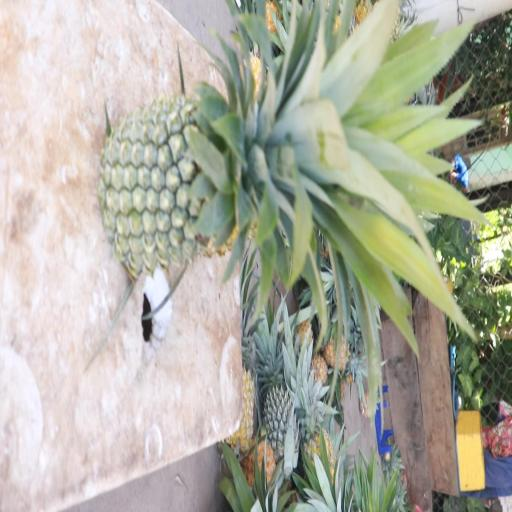------------------------------: (104, 72, 437, 286)
Pineapple - v8 v1: (223, 326, 266, 460), (298, 383, 338, 491)
